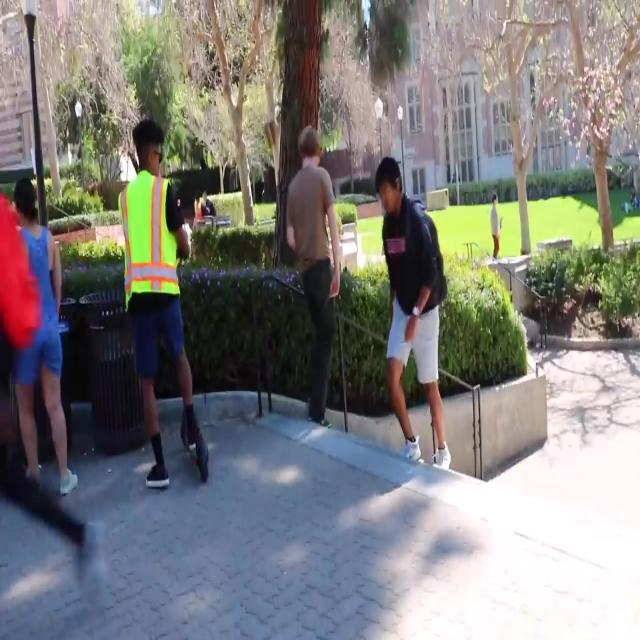Reflective-Jacket: (112, 170, 192, 319)
